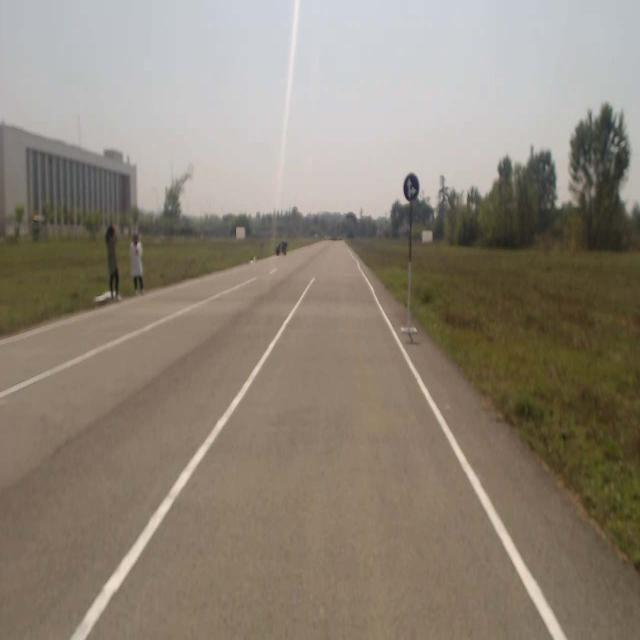ilerisag: (404, 173, 419, 200)
